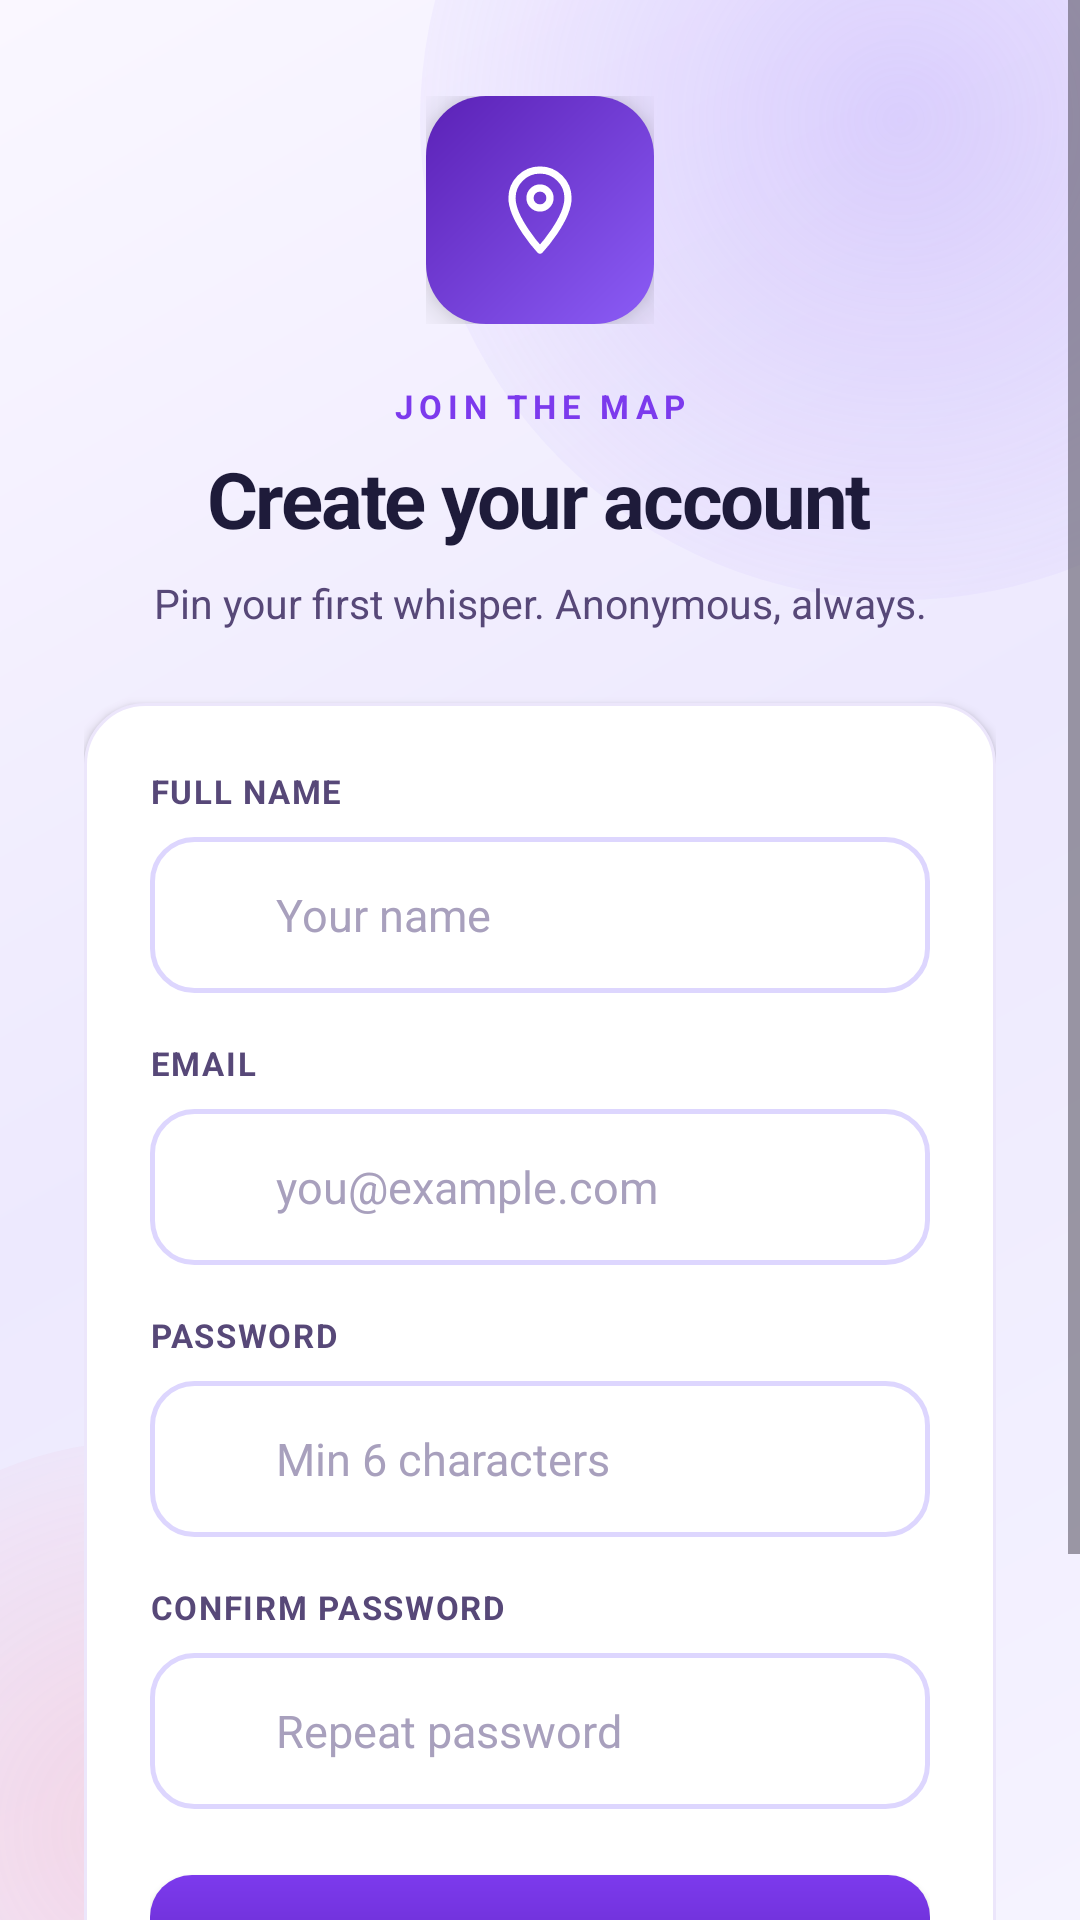

Locate icon controls on the screen. Image size 1080px×1920px, boxes as (x1, y1, x2, y2).
pin: (508, 166, 572, 254)
